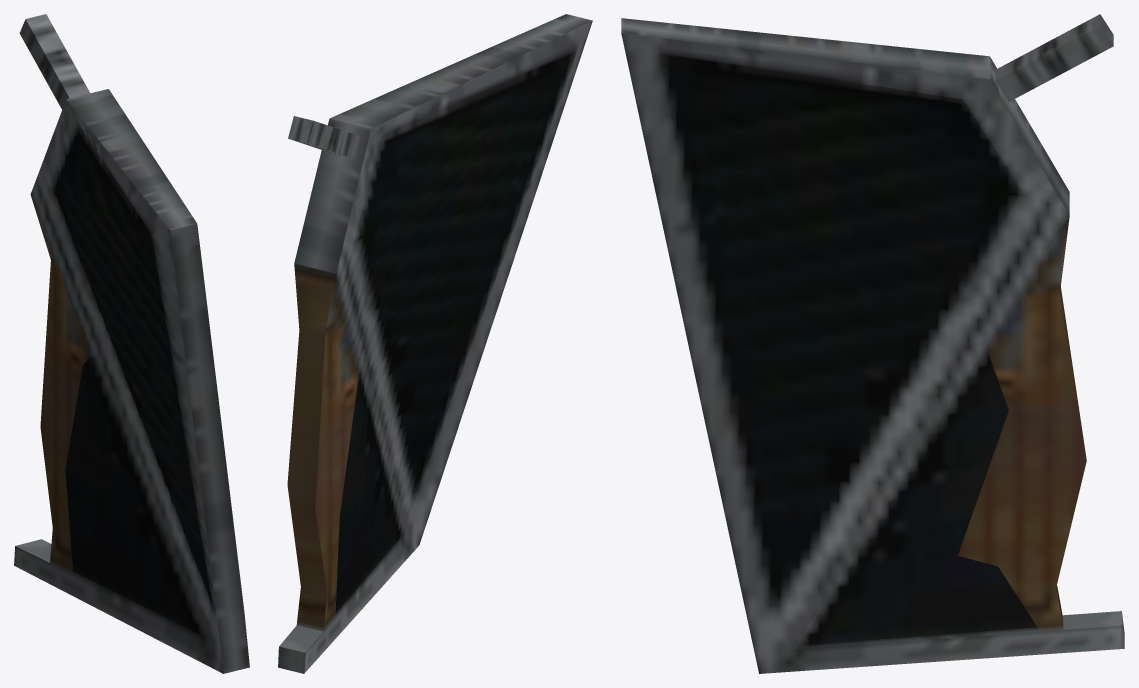
Rendered from tie_fighter_debris_c_l2.fbx.
3 renders of one model, left to right at view 1: azimuth 30°, elevation 25°; view 2: azimuth 150°, elevation 25°; view 3: azimuth 270°, elevation 25°, orthographic. The views are drawn at different scales.
Parts seen in each view (by area): view 1: mesh_node; view 2: mesh_node; view 3: mesh_node.
Boxes of the visible parts, bbox=[...] form: mesh_node: bbox=[14, 14, 249, 673]; mesh_node: bbox=[278, 14, 592, 673]; mesh_node: bbox=[621, 14, 1124, 673].
Size of the model in its own units: 1.35 by 5.03 by 3.7.
